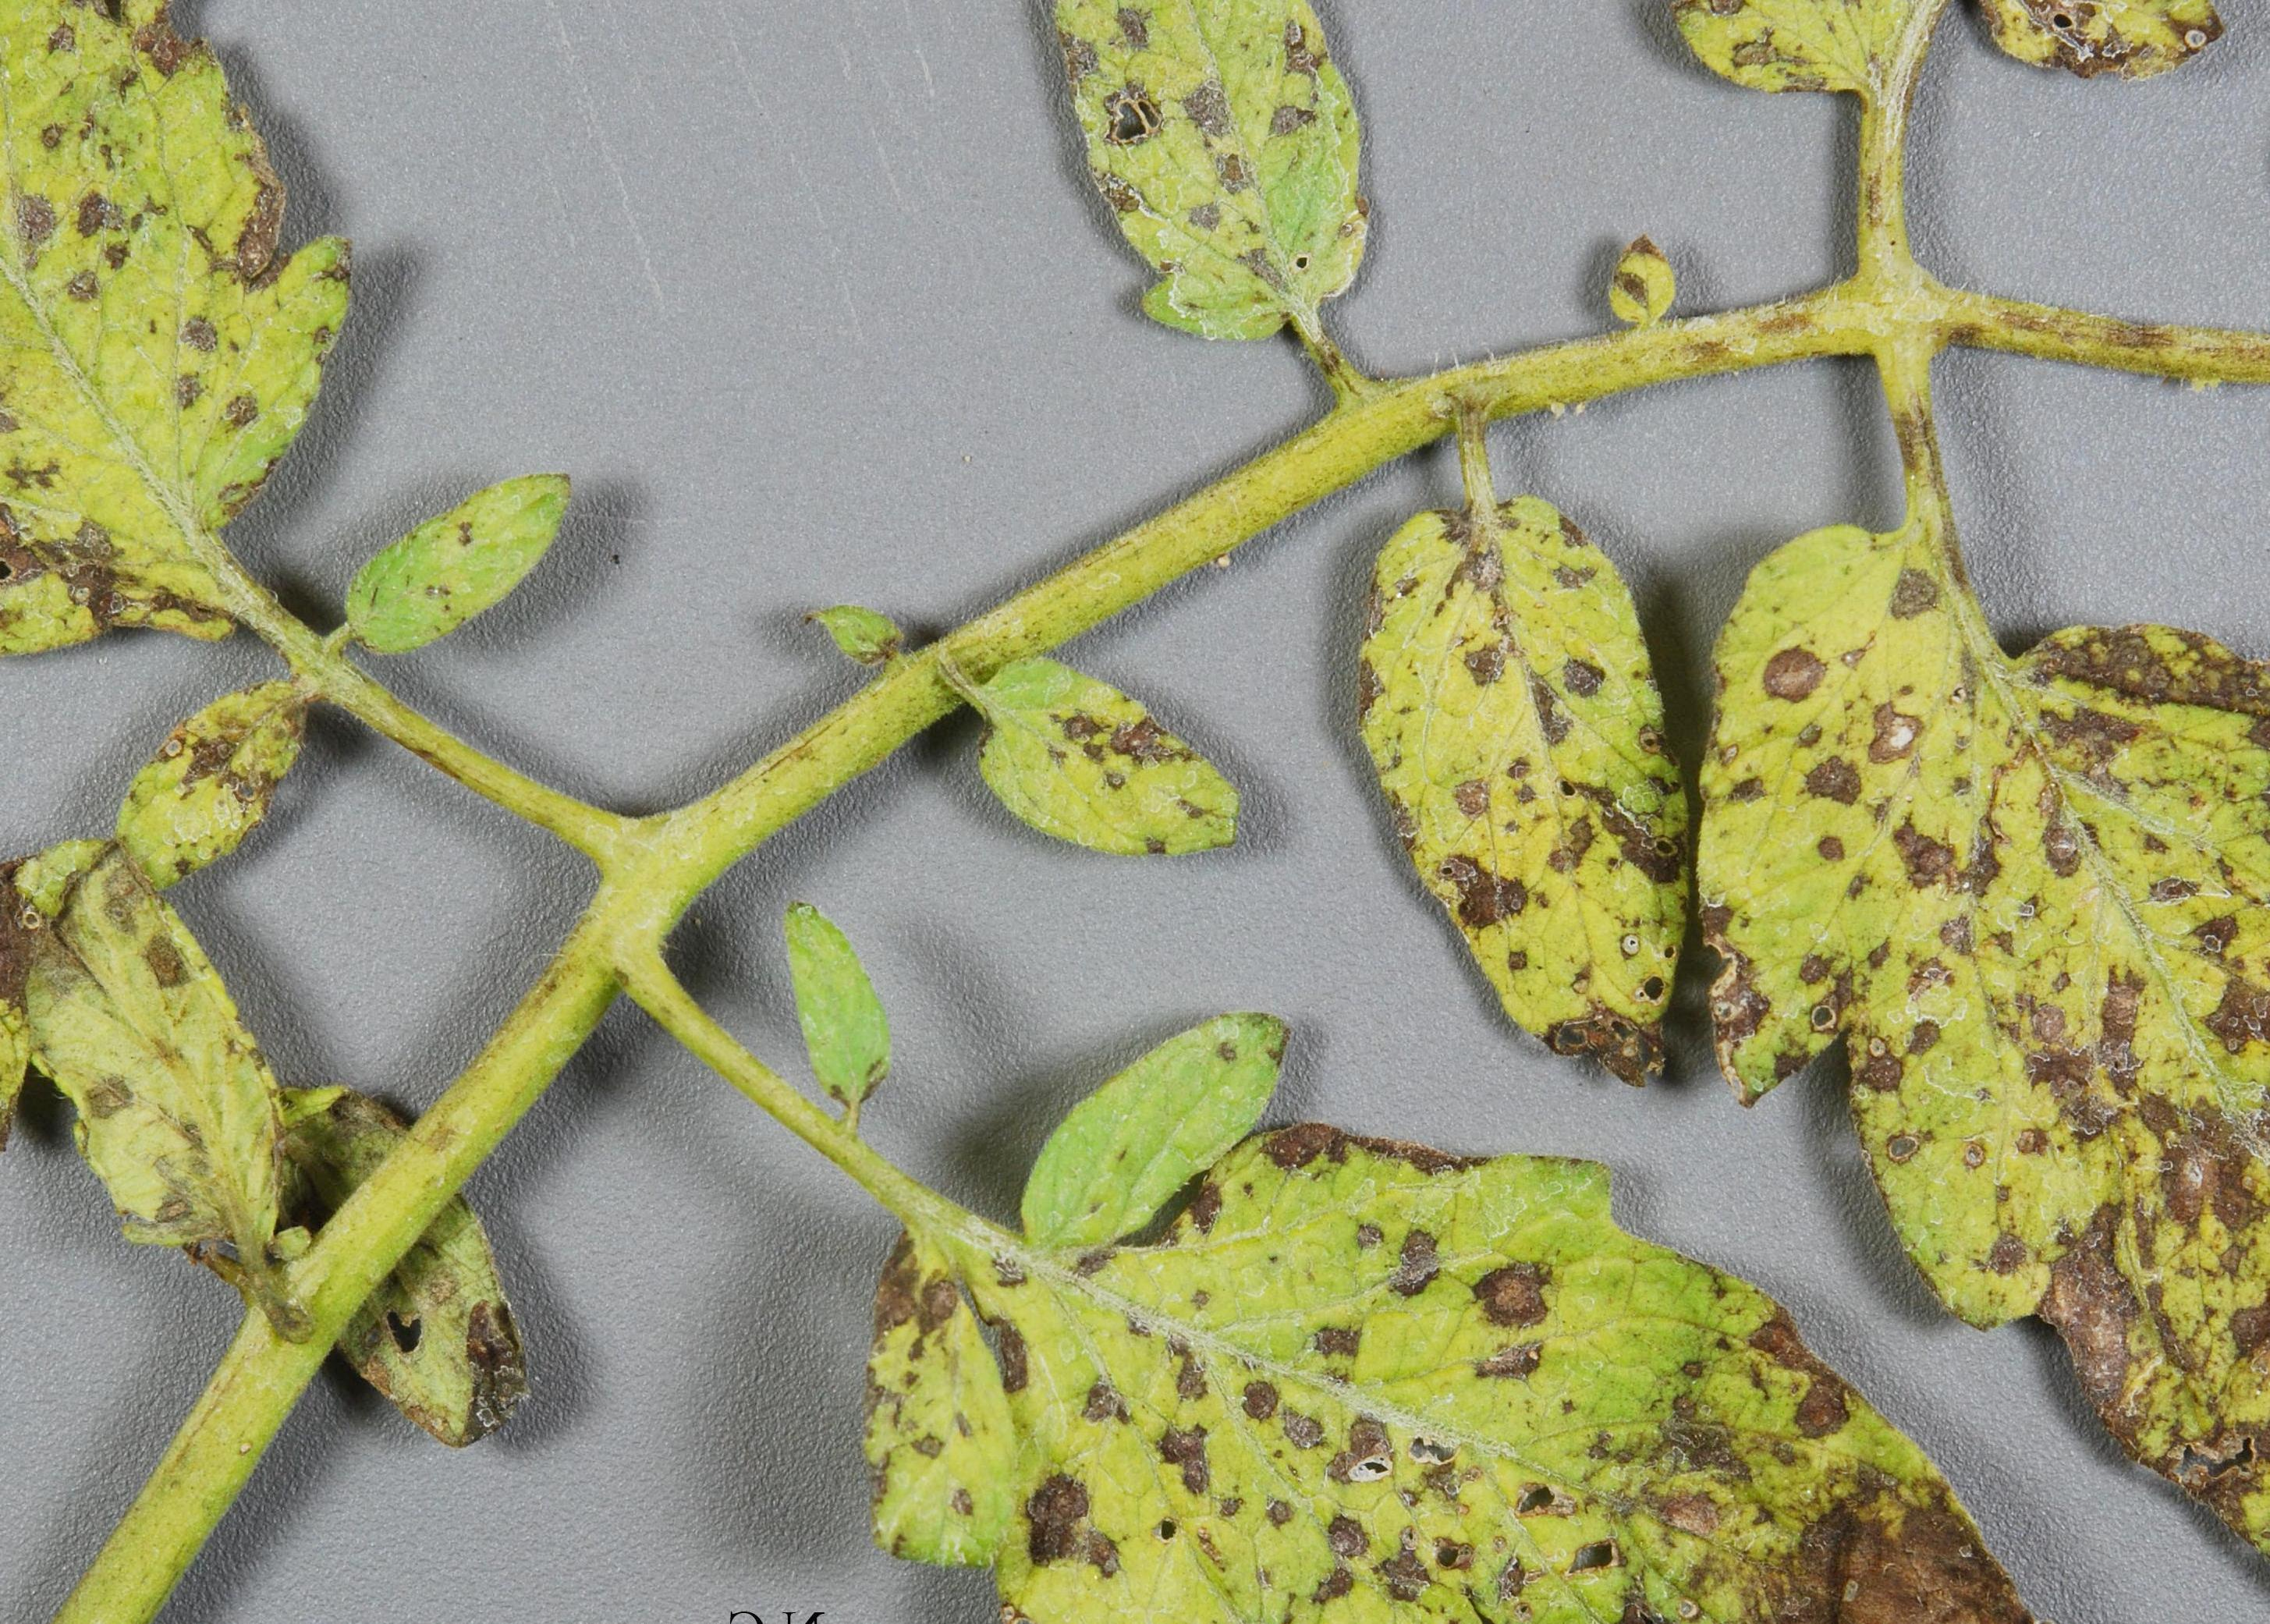Tomato Septoria leaf spot: (840, 1076, 2147, 1624), (1690, 438, 2270, 1624), (0, 0, 446, 743), (1360, 497, 1741, 1128), (966, 0, 1448, 359), (0, 793, 288, 1330), (949, 645, 1284, 937)
